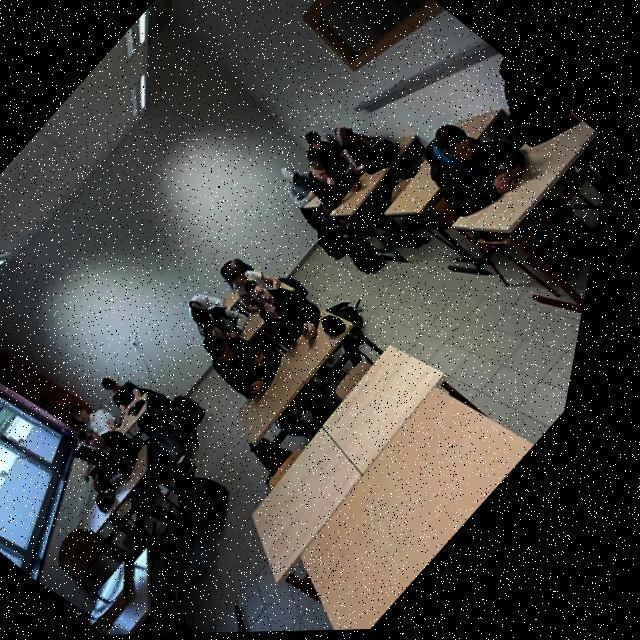phone_use: (452, 140, 548, 231), (235, 268, 318, 346), (203, 318, 283, 397), (189, 291, 263, 340), (329, 167, 386, 215), (387, 161, 436, 214)
